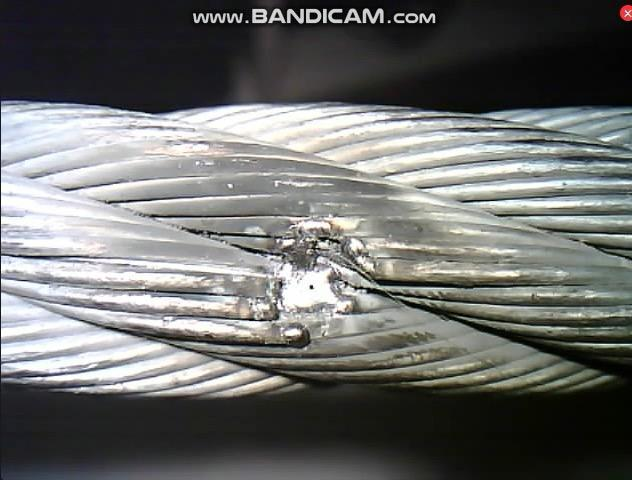thunderbolt: (223, 190, 415, 362)
